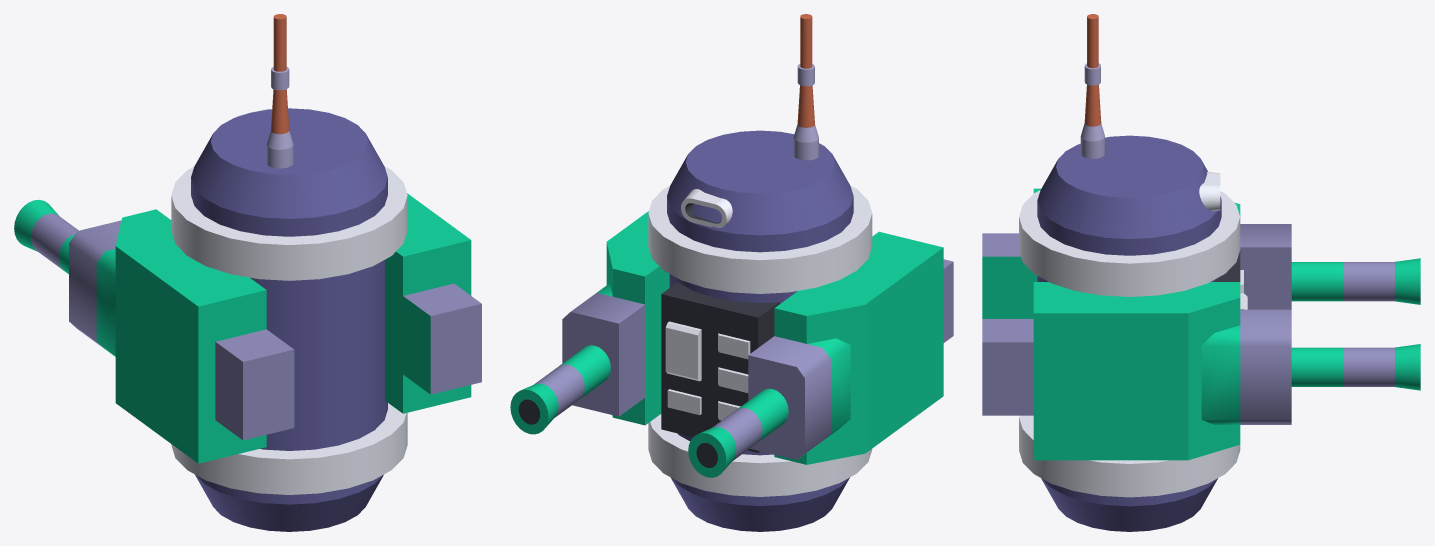
Rendered from droid.glb.
The picture shows the model from 3 angles, left to right: view 1: azimuth 30°, elevation 25°; view 2: azimuth 150°, elevation 25°; view 3: azimuth 270°, elevation 25°; orthographic projection. The views are drawn at different scales.
Parts seen in each view (by area): view 1: mergedBlocks(Clone); view 2: mergedBlocks(Clone); view 3: mergedBlocks(Clone).
Boxes of the visible parts, x1,y1,x2,y2 form: mergedBlocks(Clone): (14,14,481,531); mergedBlocks(Clone): (510,14,953,531); mergedBlocks(Clone): (982,14,1420,531).
Size of the model in its own units: 0.8 by 1.41 by 1.19.
